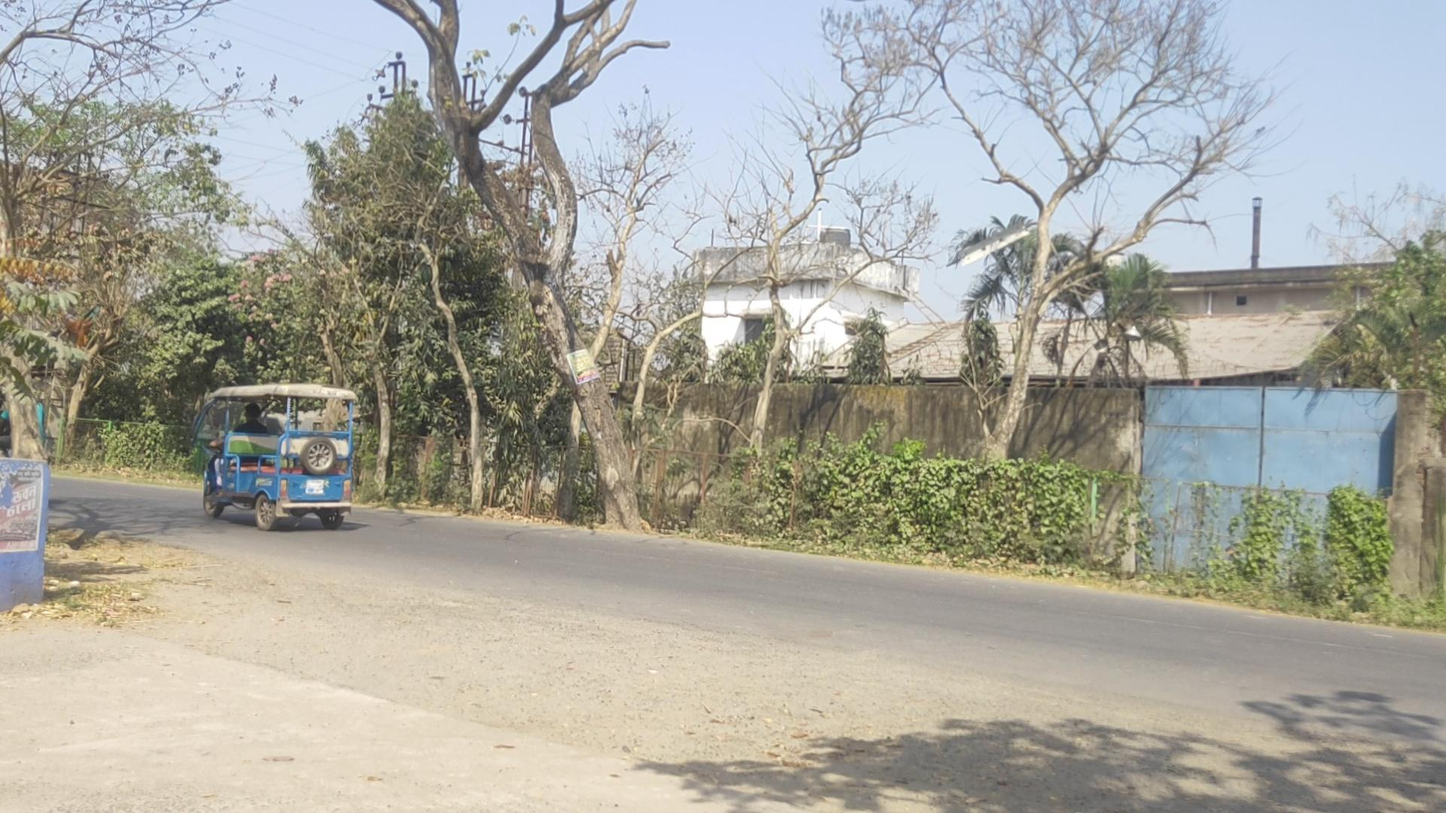Auto: (189, 384, 358, 531)
